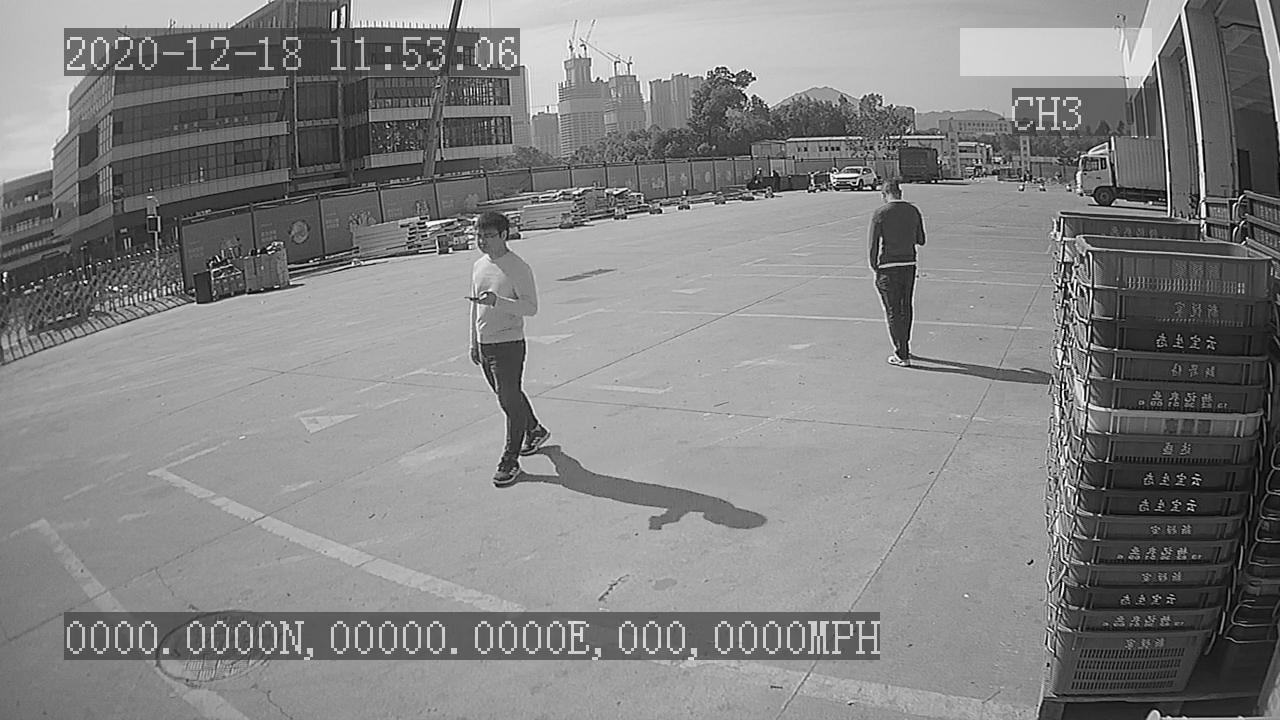person: (458, 206, 554, 492), (861, 176, 929, 372)
